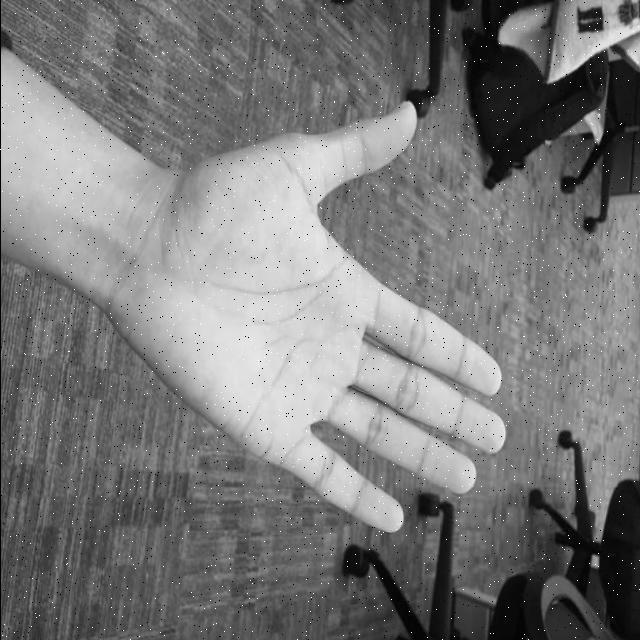hand: (134, 98, 508, 536)
